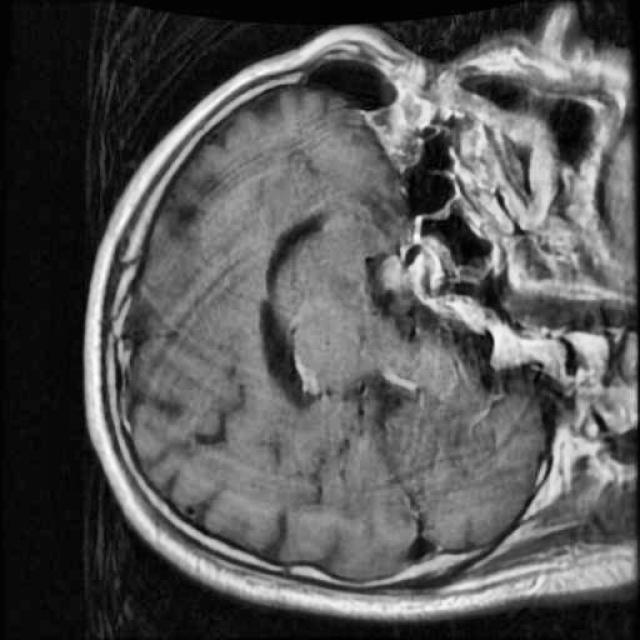Tumor: (360, 223, 462, 310)
